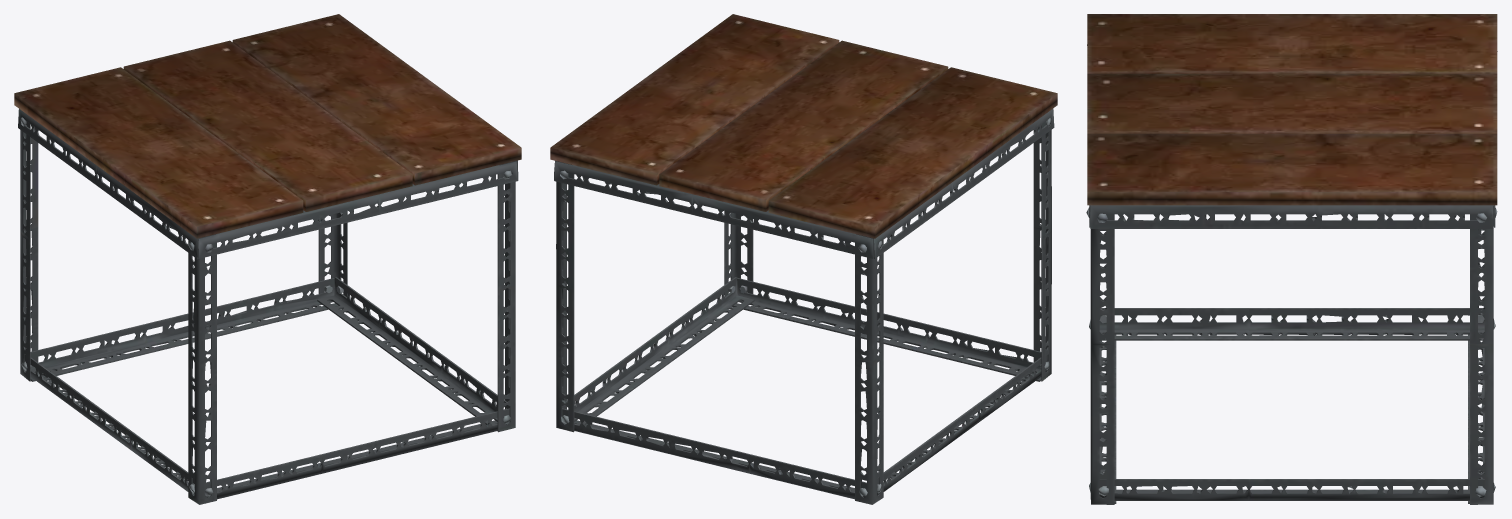
The model's file is industrial_coffee_table.glb.
3 views of the same model, side by side, from view 1: azimuth 30°, elevation 25°; view 2: azimuth 150°, elevation 25°; view 3: azimuth 270°, elevation 25° (orthographic). The views are drawn at different scales.
Visible parts, largest first — view 1: industrial_coffee_table; view 2: industrial_coffee_table; view 3: industrial_coffee_table.
Part boxes in pixels (x1,y1,x2,y2): industrial_coffee_table: (14, 14, 521, 504); industrial_coffee_table: (550, 14, 1057, 504); industrial_coffee_table: (1086, 14, 1497, 504).
Size of the model in its own units: 0.7723 by 0.6375 by 0.7546.
Materials: 1 (1 with a texture image).
